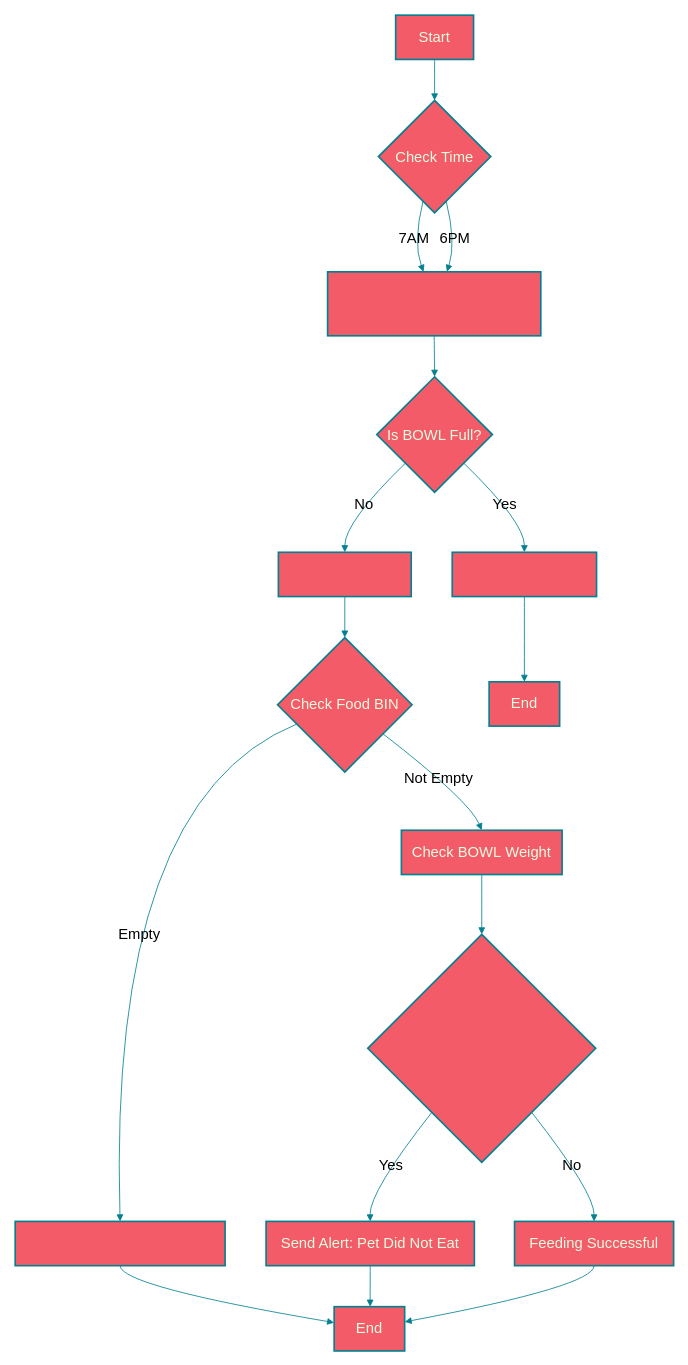
Some shapes in this 688 by 1365 pixel diagram are drawn without their labels. The shapes that lost their labels are listed below. From the top down, each one's box as (x1, y1, x2, y2) in pixels, then its label:
(326, 271, 541, 336): Rotate Servo to Dispense Food
(277, 551, 412, 597): Dispense Food
(451, 551, 597, 597): Do Not Dispense Food
(367, 933, 596, 1163): Is Bowl Weight Unchanged for 10 mins?
(14, 1220, 226, 1266): Send Alert: Food Bin Empty
